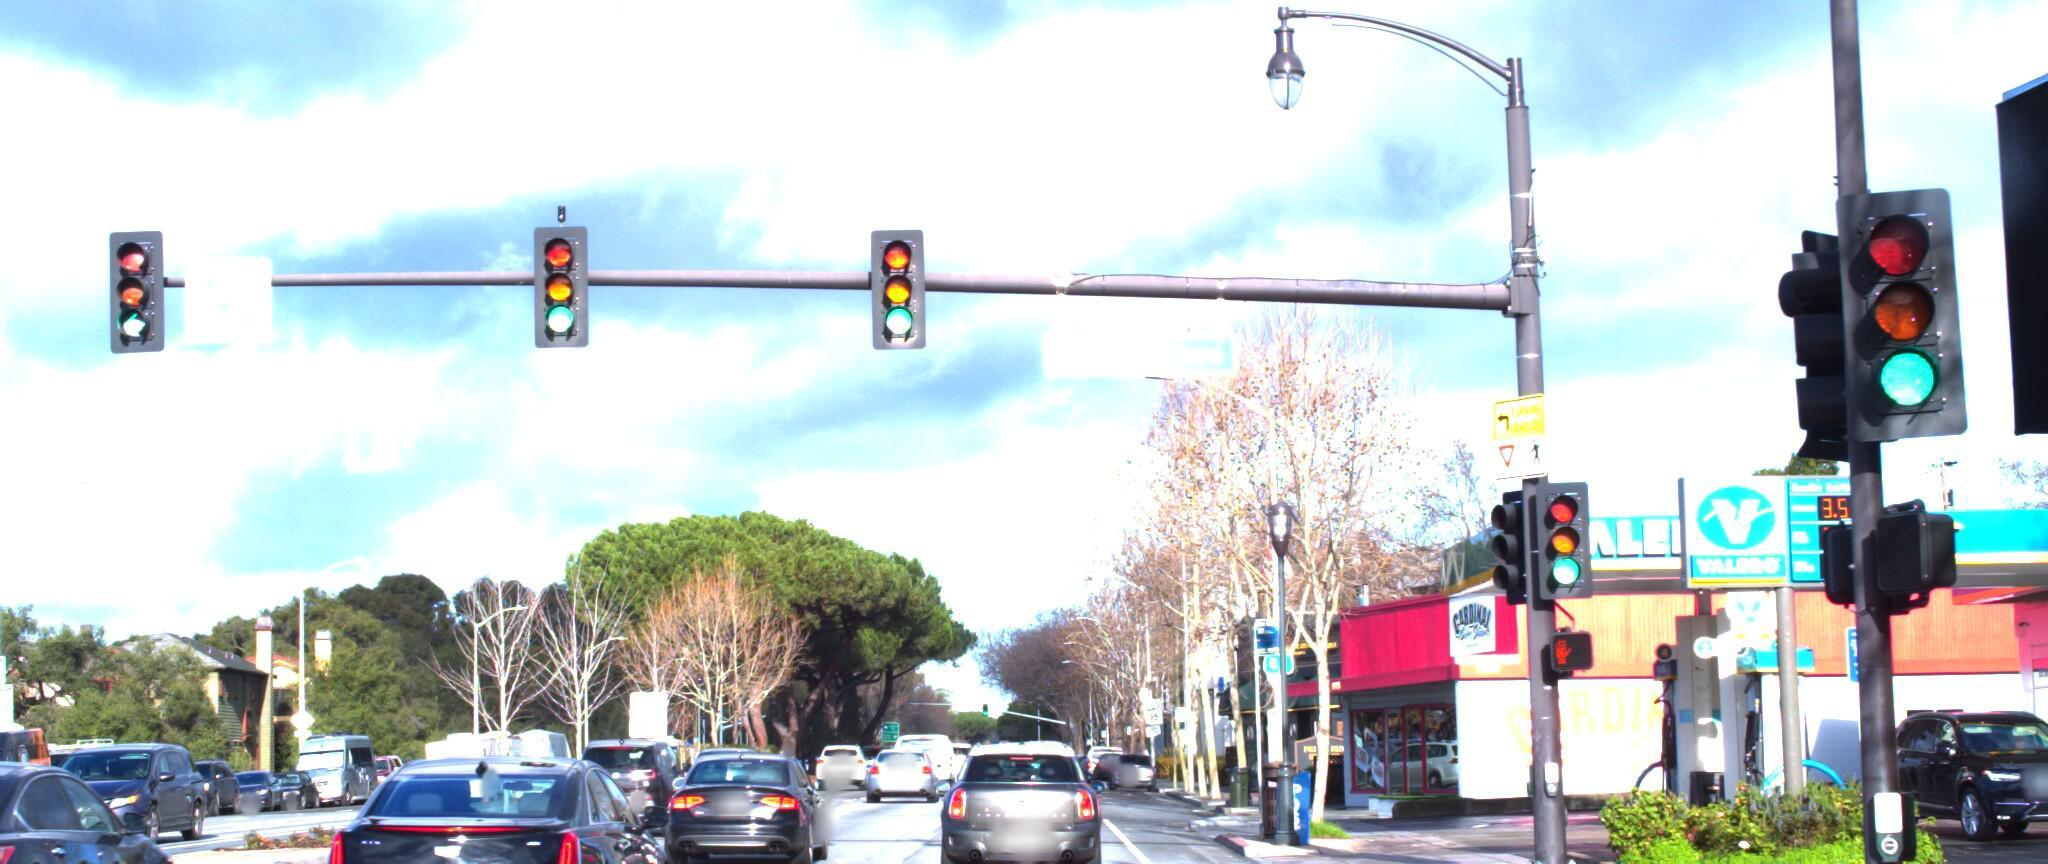car: (298, 761, 684, 864), (0, 467, 82, 864), (1839, 685, 2048, 831), (0, 748, 216, 864), (12, 730, 218, 841), (930, 735, 1101, 864), (656, 747, 832, 864), (545, 723, 686, 831), (863, 728, 944, 790)
